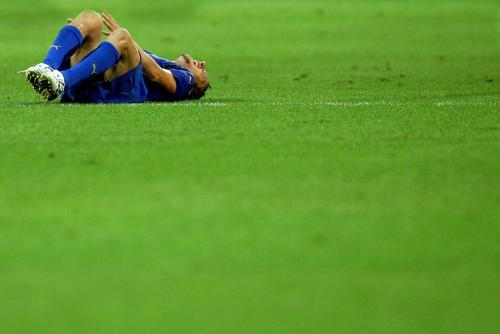down: (21, 6, 216, 105)
